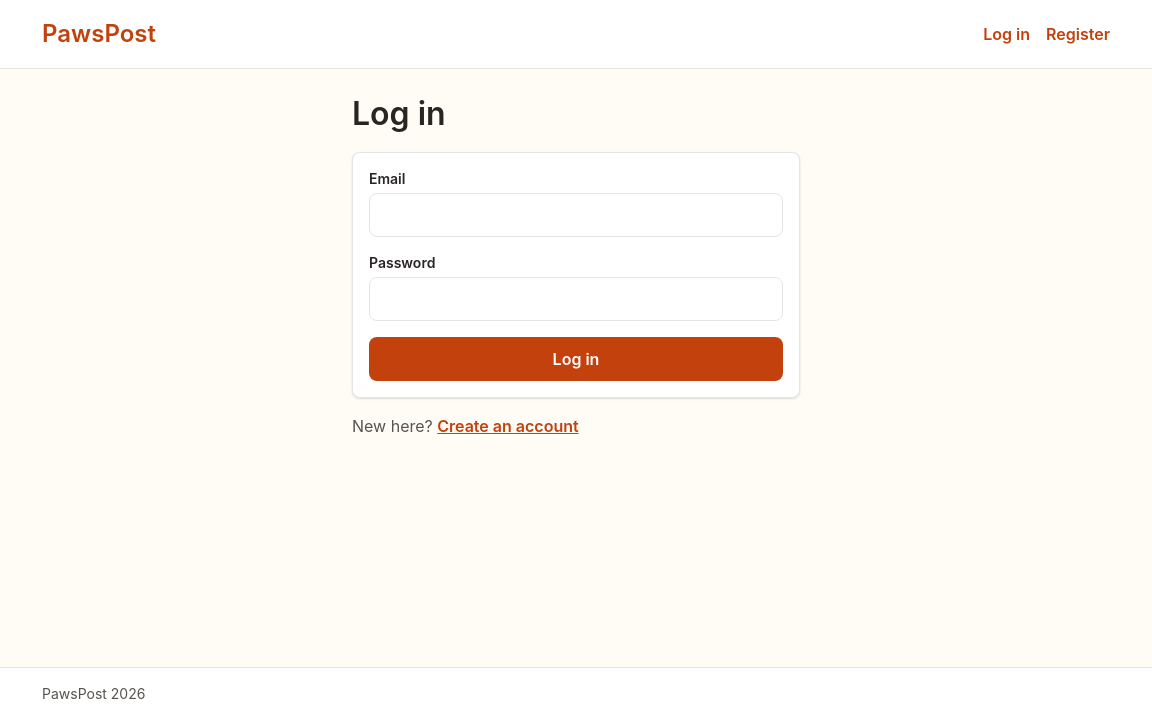
Test: LoginPage › shows the wrong credentials message on a 401 with no status code
Type "sara@example.com" into the field labelled "Email" at (576, 215), box left=369, top=193, right=783, bottom=237
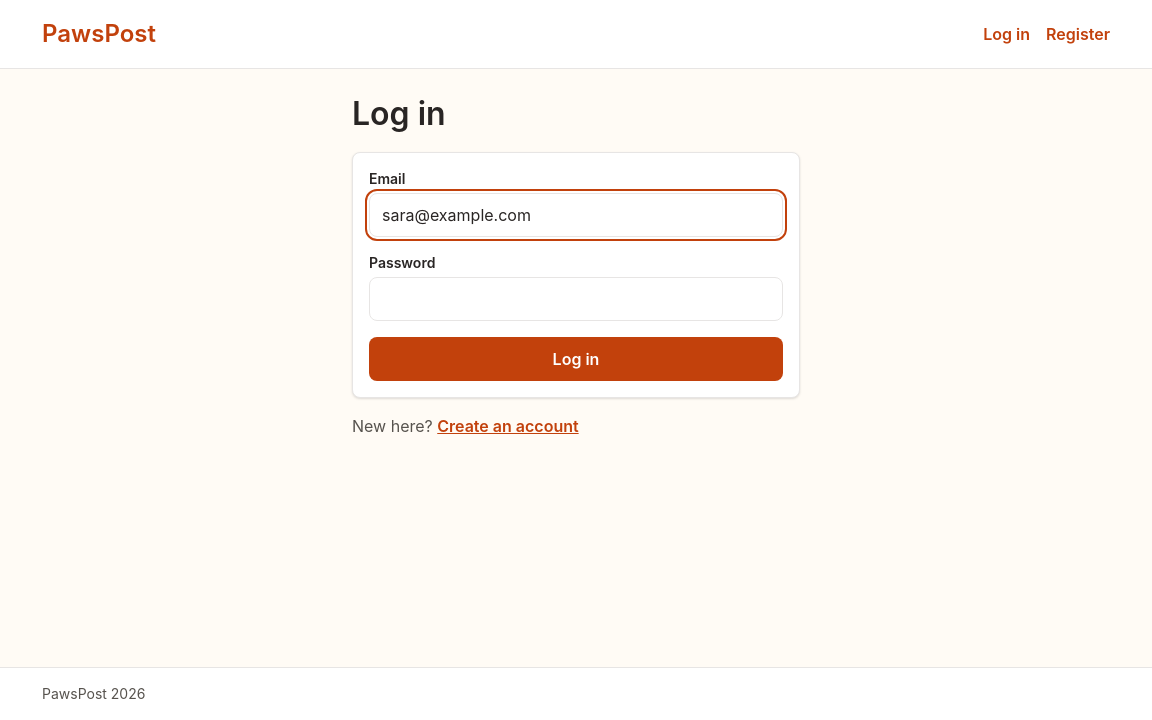
Type "Secret1!" into the password field labelled "Password" at (576, 299), box left=369, top=277, right=783, bottom=321
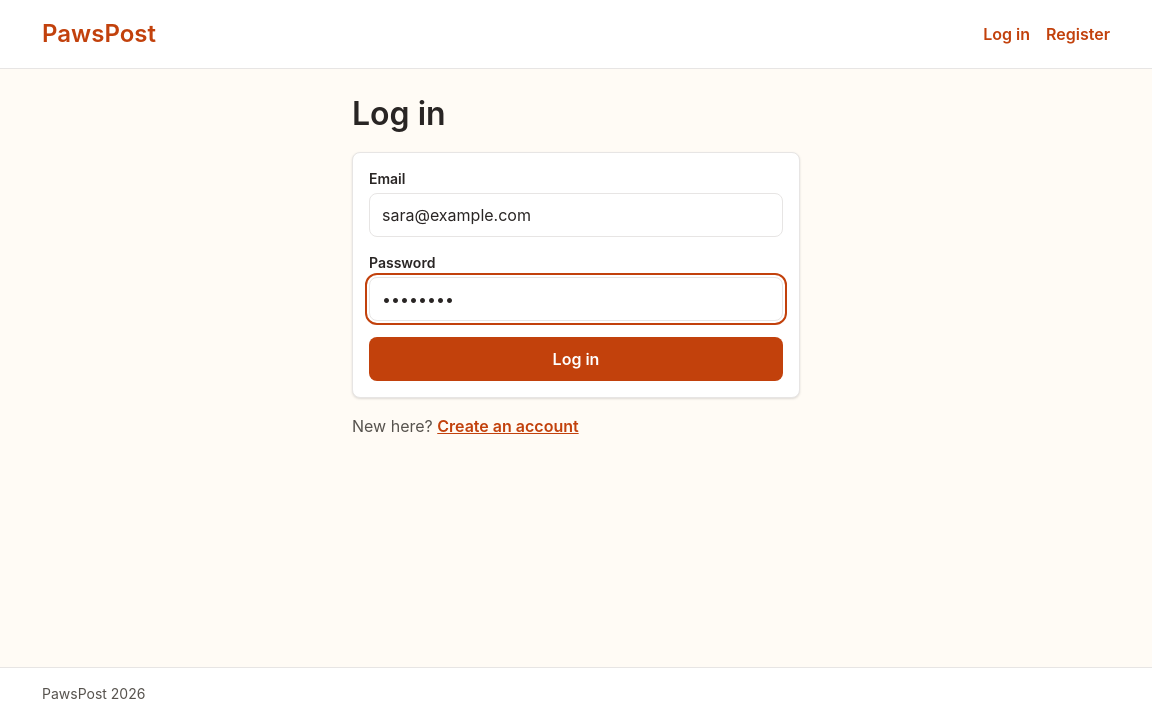
Click the button "Log in" at (576, 359), box left=369, top=337, right=783, bottom=381
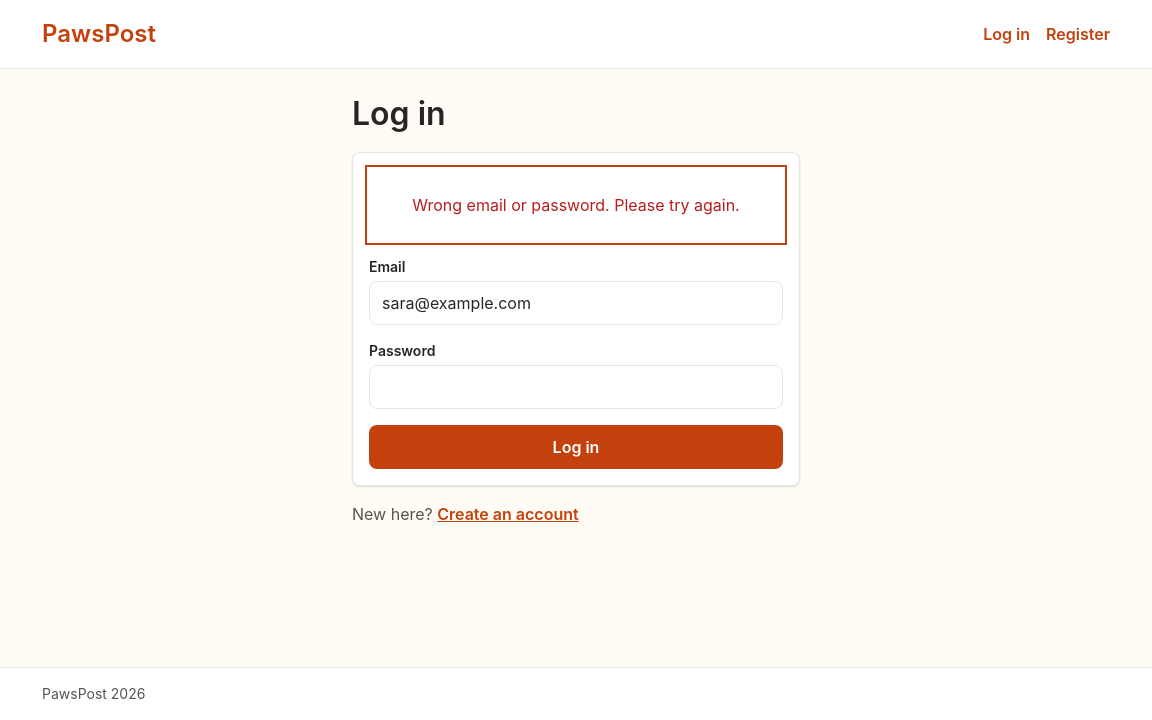
Check: the message reads "Wrong email or password. Please try again.", box left=412, top=195, right=740, bottom=215
